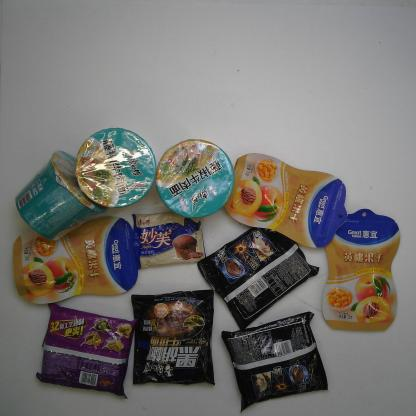Dessert: (130, 207, 208, 270)
Dried Fruit: (220, 150, 348, 251), (12, 215, 140, 306), (320, 206, 397, 334)
Instant Noodles: (196, 213, 319, 328), (218, 311, 329, 411), (34, 301, 137, 401), (15, 149, 115, 243), (129, 288, 216, 386), (76, 128, 155, 208), (156, 140, 233, 218)
